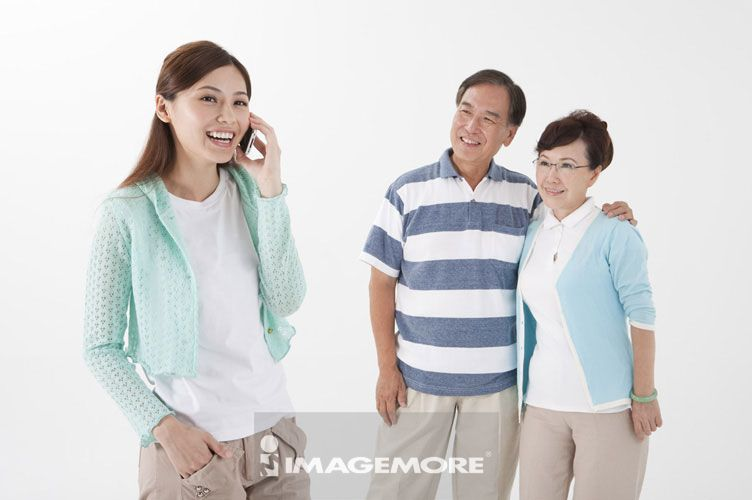talk: (187, 84, 280, 185)
